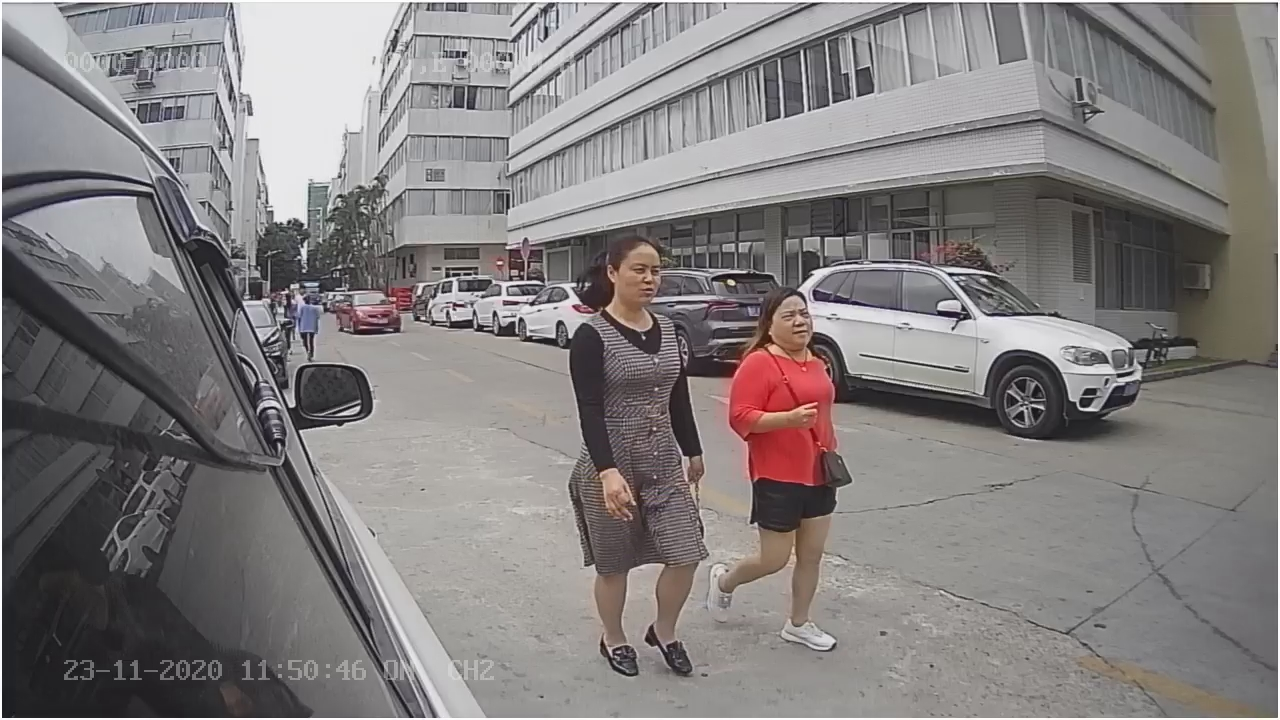person: (546, 234, 696, 679), (707, 266, 845, 648)
